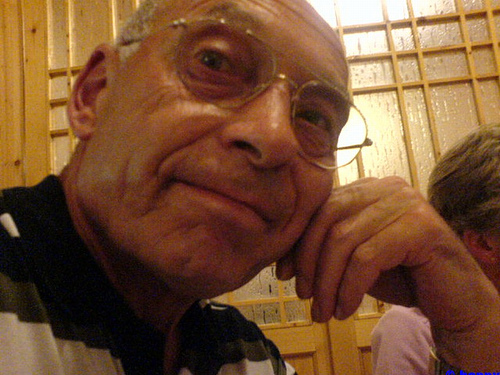without_mask: (69, 2, 375, 298)
